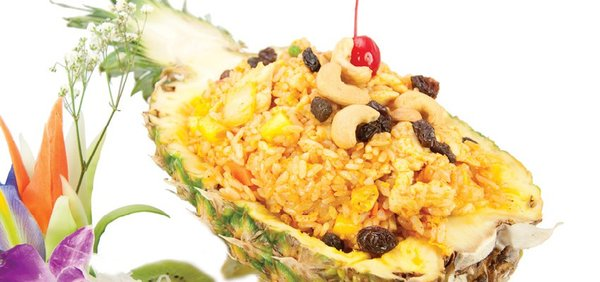sushi: (139, 10, 540, 280)
